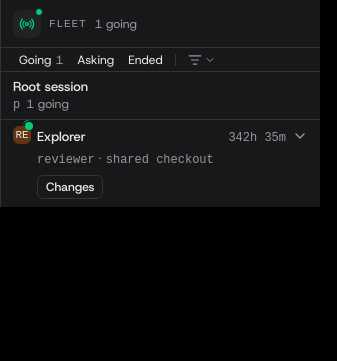
Test: the fleet column › opens one row at a time, in place, and closes it again
The width and height of the screenshot is (337, 361).
Click the button "RE Explorer 342h 35m" at x=61, y=136, box [13, 128, 308, 146]
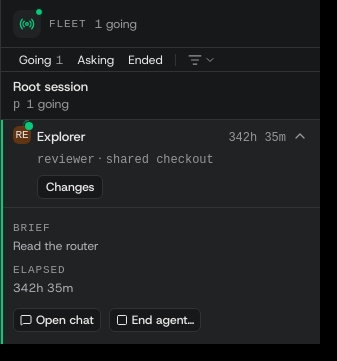
Now the element that starts with "Explorer" shows "Read the router", box [13, 238, 99, 254]
Click the button "RE Explorer 342h 35m" at x=61, y=136, box [13, 128, 308, 146]
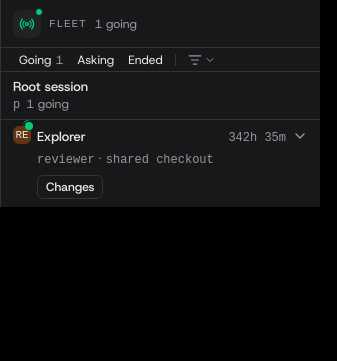
Now the element showing "RE Explorer 342h 35m reviewer · shared checkout Changes" does not have attribute data-expanded, box [1, 120, 320, 207]
Now the text "Read the router" is gone
